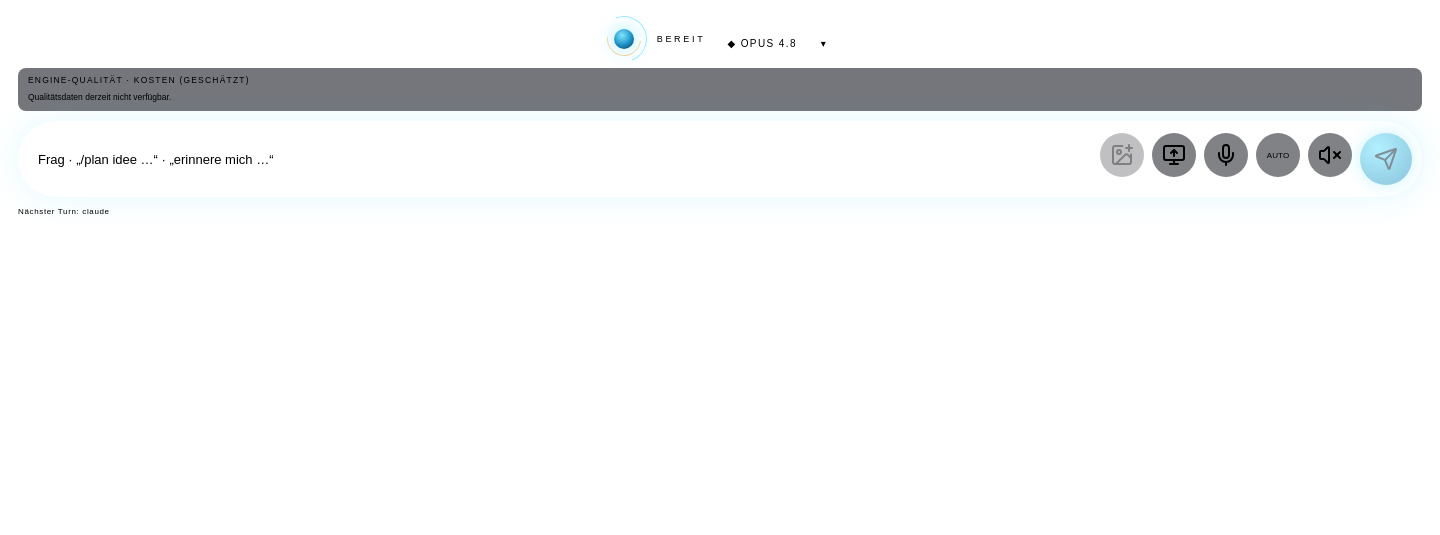
it: PlanspecDraft (/plan-Flow, Wire aus pa_planspec.py) › Switcher-Wahl reist als engine+model im draft-POST mit (Badge zeigt die Wahl)
In the field named "Nachricht an Jarvis": [564, 159] box left=38, top=137, right=1090, bottom=181, type "/plan baue ein Dashboard-Panel"
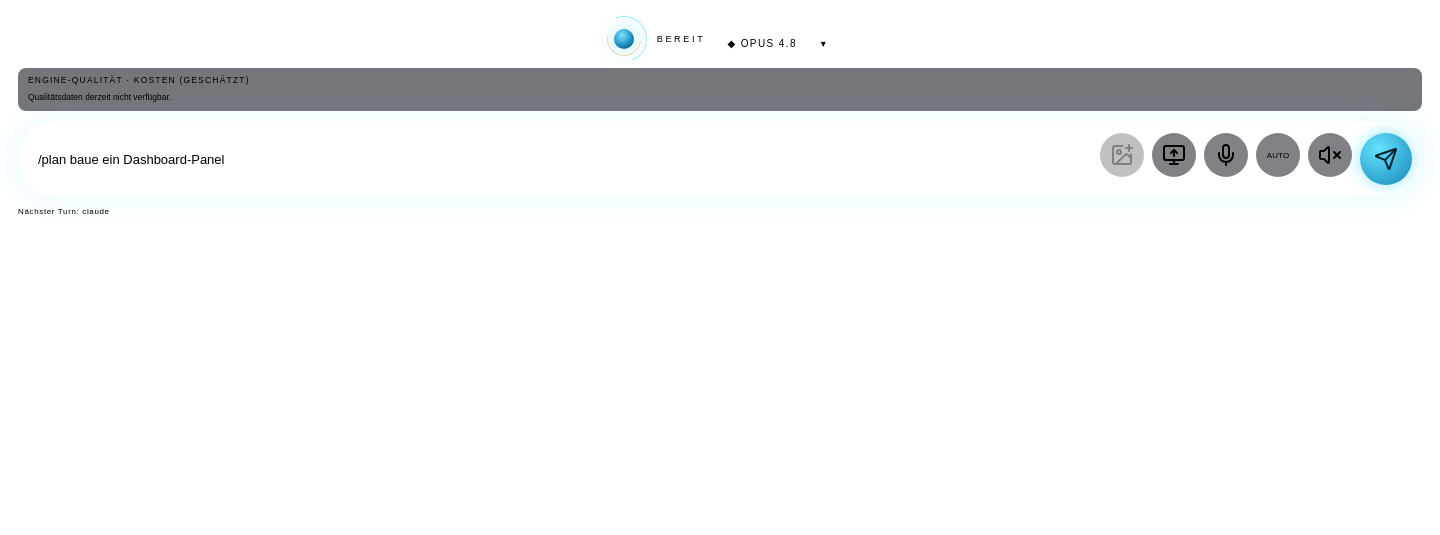
Click the button named "Nachricht senden": [1386, 159] box left=1360, top=133, right=1412, bottom=185
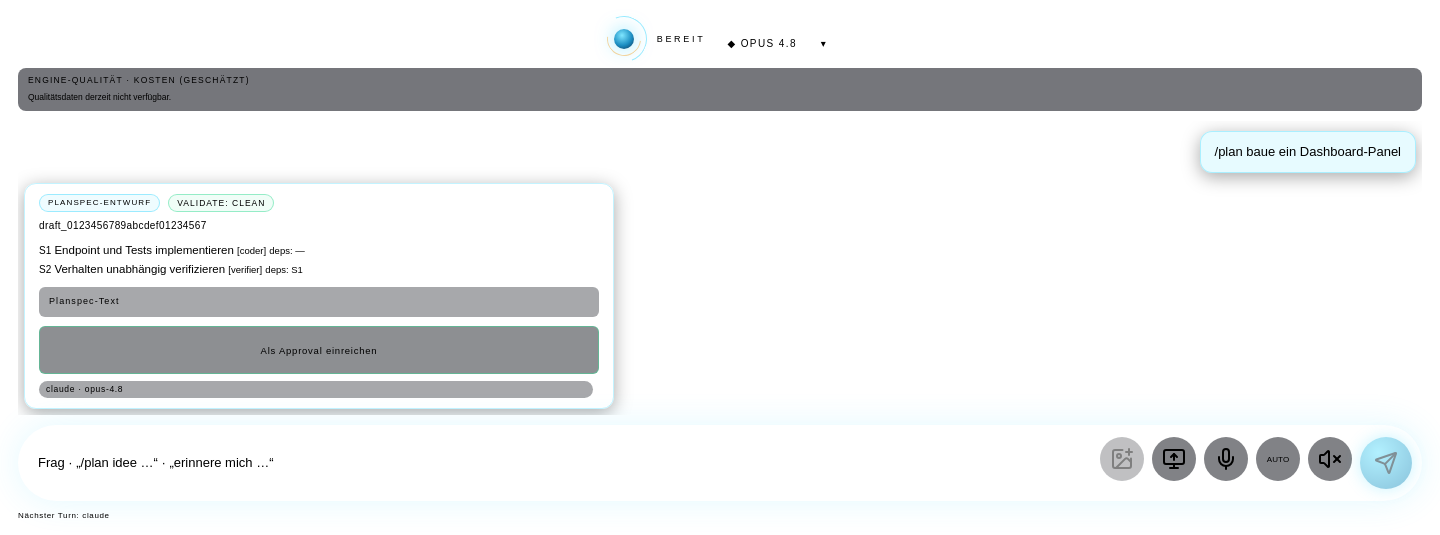
Expected: the element with test id "jv-plan-draft_0123456789abcdef01234567" shows "claude · opus-4.8", left=24, top=182, right=614, bottom=409
